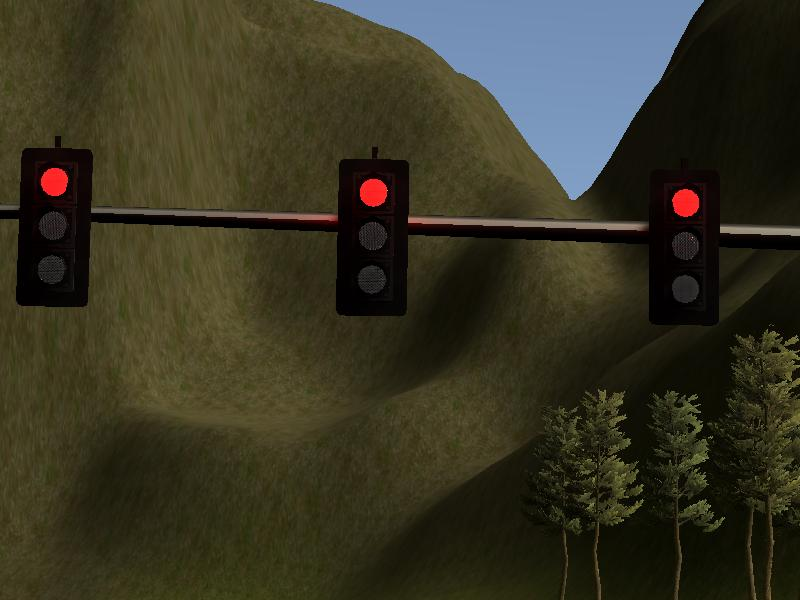red: (18, 146, 90, 306), (336, 157, 408, 317), (649, 165, 721, 325)
